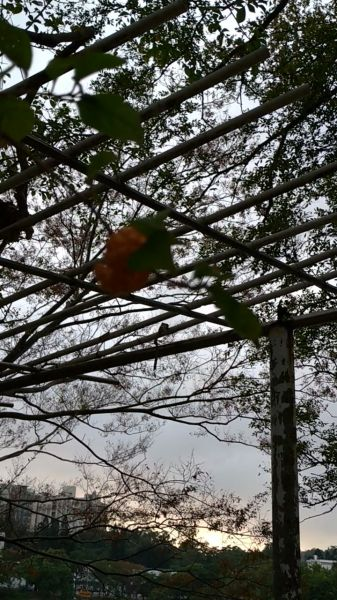eggs: (87, 219, 156, 300)
